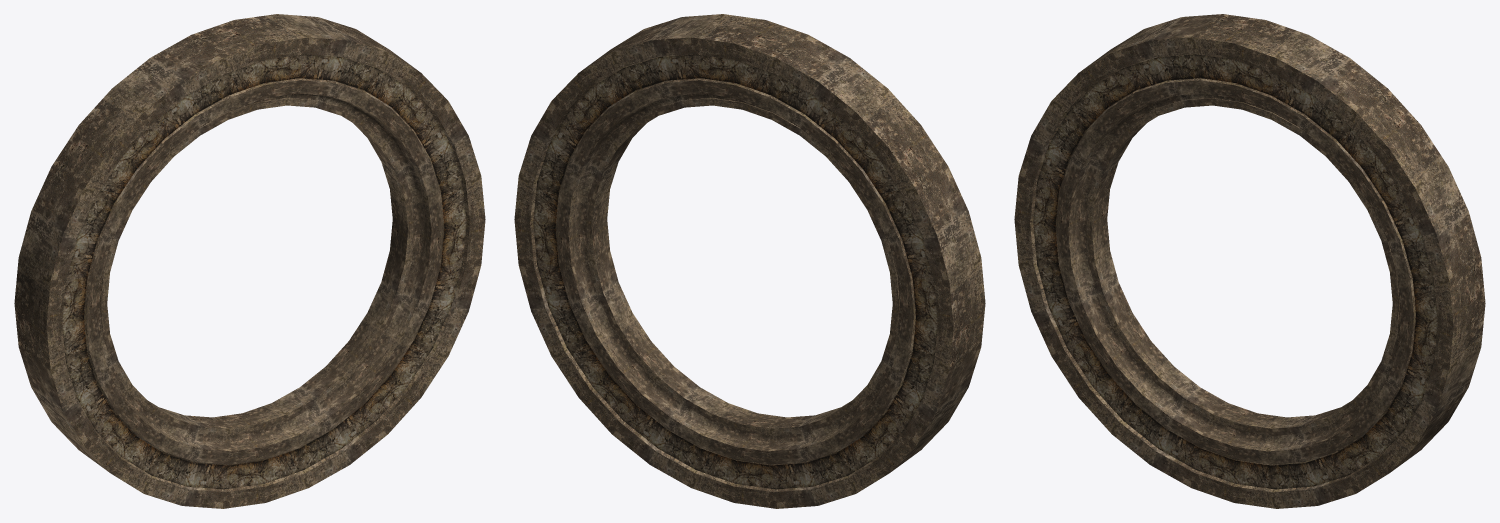
Rendered from materials_5_decoration_plate_3.fbx.
The picture shows the model from 3 angles, left to right: view 1: azimuth 30°, elevation 25°; view 2: azimuth 150°, elevation 25°; view 3: azimuth 330°, elevation 25°; orthographic projection.
Visible parts, largest first — view 1: materials_5_decoration_plate_3; view 2: materials_5_decoration_plate_3; view 3: materials_5_decoration_plate_3.
Boxes of the visible parts, left/top/right/bottom form: materials_5_decoration_plate_3: left=14, top=14, right=485, bottom=508; materials_5_decoration_plate_3: left=514, top=14, right=985, bottom=508; materials_5_decoration_plate_3: left=1014, top=14, right=1485, bottom=508.
Size of the model in its own units: 118 by 118 by 14.85.
